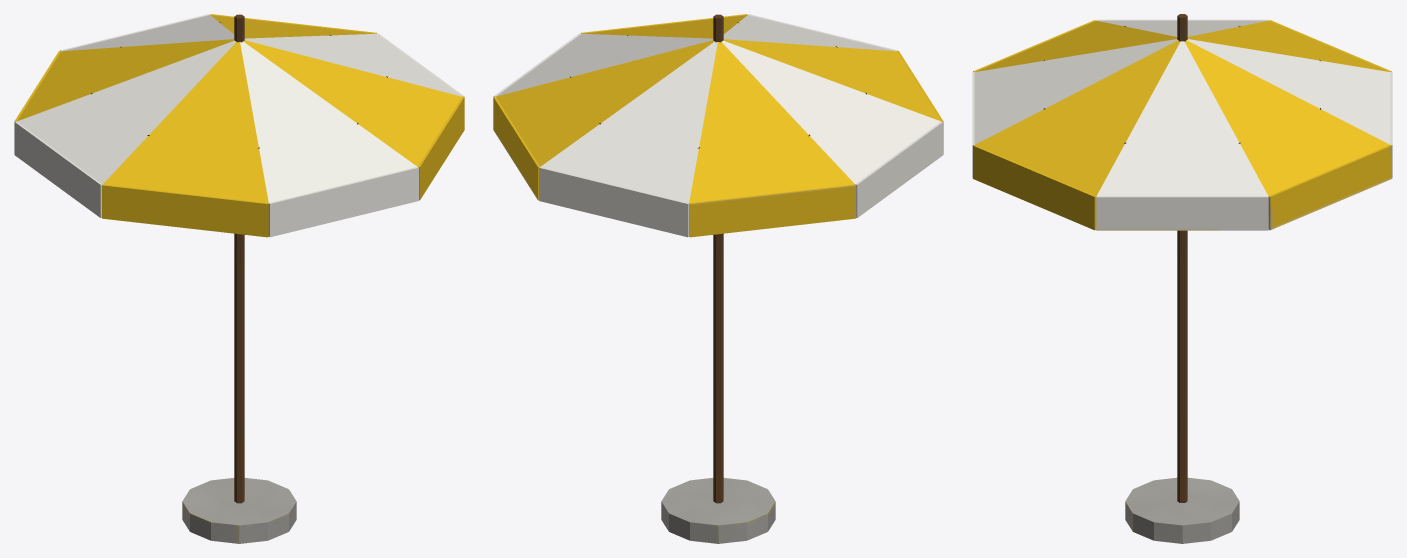
Rendered from slunecnik_ad6a1ccb.glb.
3 renders of one model, left to right at view 1: azimuth 30°, elevation 25°; view 2: azimuth 150°, elevation 25°; view 3: azimuth 270°, elevation 25°, orthographic.
Visible parts, largest first — view 1: dum; view 2: dum; view 3: dum.
Boxes of the visible parts, box(x1,y1,x2,y2) form: dum: box(14, 14, 464, 543); dum: box(493, 14, 943, 543); dum: box(972, 14, 1392, 543).
Bounding box in the file's own units: 2.05 × 2.71 × 2.05.
Materials: 1 (1 with a texture image).
